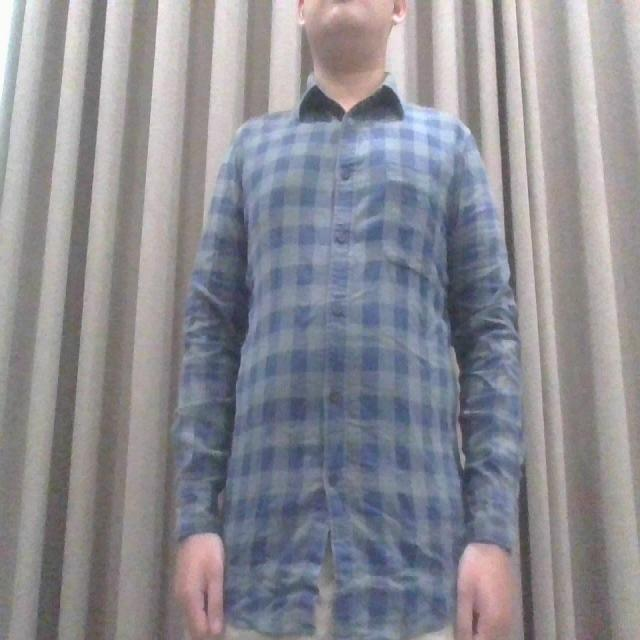long_Sleeve_shirt: (173, 85, 524, 640)
